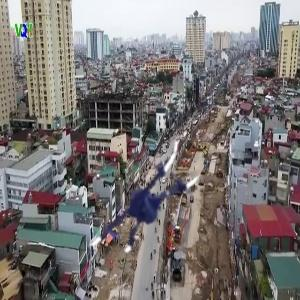drone: (70, 126, 207, 263)
